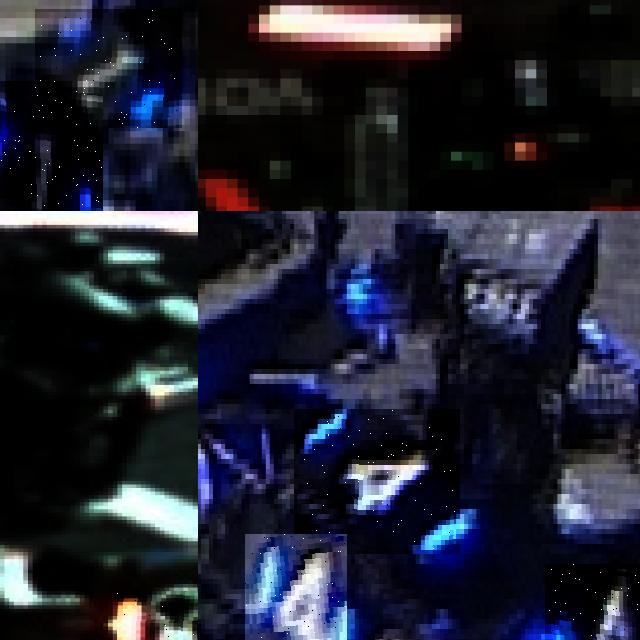B1: (35, 9, 182, 128), (0, 80, 103, 211)
R4: (294, 409, 460, 554), (245, 534, 346, 640), (545, 564, 640, 640)
Rs: (117, 591, 198, 640)
